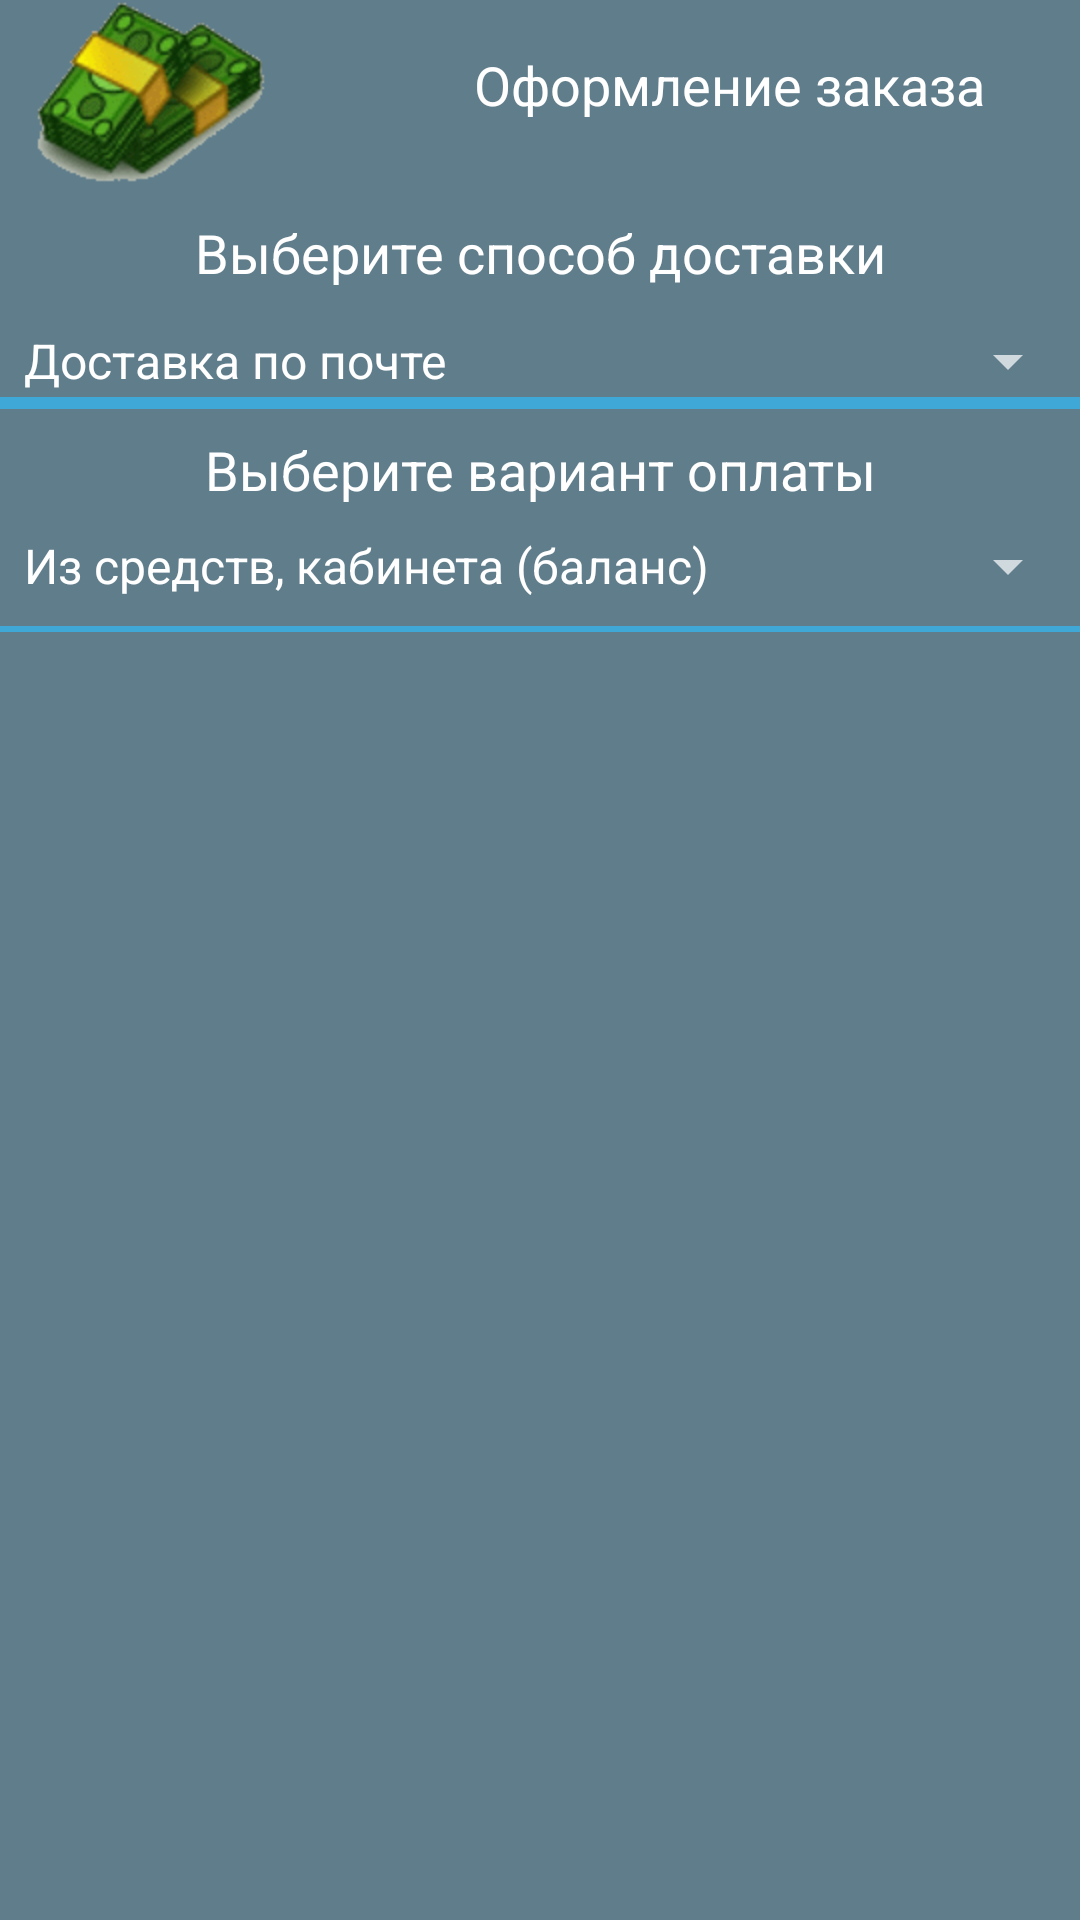

Screen size 1080w x 1920h. Icon name, then its center in pixels as (x=x, y=y):
money cart: (x=151, y=92)
